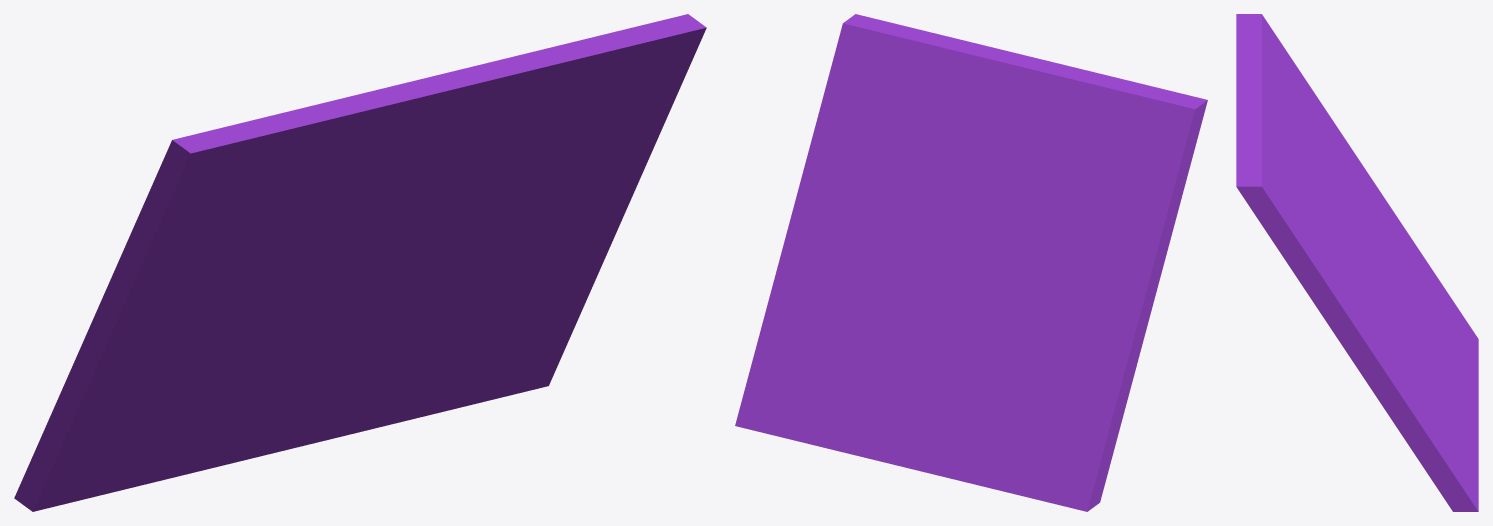
The model's file is Window_43_chunks.fbx.
3 renders of one model, left to right at view 1: azimuth 30°, elevation 25°; view 2: azimuth 150°, elevation 25°; view 3: azimuth 270°, elevation 25°, orthographic. The views are drawn at different scales.
Visible parts, largest first — view 1: Window_43_2, Window_43_5, Window_43_3, Window_43_1, Window_43_17, Window_43_6, Window_43_25, Window_43_27, Window_43_22, Window_43_7, Window_43_12, Window_43_16 (+7 smaller); view 2: Window_43_2, Window_43_3, Window_43_6, Window_43_5, Window_43_17, Window_43_27, Window_43_0, Window_43_25, Window_43_1, Window_43_15, Window_43_16, Window_43_7 (+13 smaller); view 3: Window_43_17, Window_43_2, Window_43_3, Window_43_5, Window_43_6, Window_43_21, Window_43_22, Window_43_27, Window_43_23, Window_43_25, Window_43_0, Window_43_1 (+13 smaller).
Boxes of the visible parts, left/top/right/bottom form: Window_43_2: left=14, top=323, right=250, bottom=511; Window_43_5: left=158, top=88, right=433, bottom=227; Window_43_3: left=368, top=267, right=520, bottom=424; Window_43_1: left=217, top=307, right=388, bottom=466; Window_43_17: left=513, top=14, right=706, bottom=226; Window_43_6: left=107, top=171, right=305, bottom=306; Window_43_25: left=420, top=29, right=648, bottom=210; Window_43_27: left=386, top=42, right=595, bottom=152; Window_43_22: left=513, top=134, right=659, bottom=293; Window_43_7: left=236, top=205, right=443, bottom=290; Window_43_12: left=91, top=304, right=272, bottom=364; Window_43_16: left=368, top=193, right=541, bottom=276; Window_43_2: left=982, top=312, right=1150, bottom=511; Window_43_3: left=745, top=250, right=951, bottom=448; Window_43_6: left=1028, top=144, right=1186, bottom=275; Window_43_5: left=1042, top=59, right=1207, bottom=178; Window_43_17: left=814, top=14, right=888, bottom=221; Window_43_27: left=923, top=32, right=1049, bottom=129; Window_43_0: left=909, top=352, right=1006, bottom=486; Window_43_25: left=885, top=23, right=977, bottom=198; Window_43_1: left=857, top=323, right=973, bottom=468; Window_43_15: left=1005, top=267, right=1160, bottom=318; Window_43_16: left=850, top=187, right=958, bottom=257; Window_43_7: left=946, top=192, right=1048, bottom=269; Window_43_17: left=1236, top=169, right=1360, bottom=307; Window_43_2: left=1373, top=181, right=1478, bottom=390; Window_43_3: left=1367, top=266, right=1478, bottom=506; Window_43_5: left=1236, top=14, right=1309, bottom=147; Window_43_6: left=1280, top=42, right=1360, bottom=209; Window_43_21: left=1388, top=397, right=1478, bottom=511; Window_43_22: left=1300, top=273, right=1391, bottom=390; Window_43_27: left=1236, top=85, right=1295, bottom=161; Window_43_23: left=1352, top=322, right=1417, bottom=419; Window_43_25: left=1236, top=147, right=1337, bottom=233; Window_43_0: left=1412, top=299, right=1478, bottom=425; Window_43_1: left=1400, top=309, right=1478, bottom=451.
Bounding box in the file's own units: 1059 × 930 × 628.
